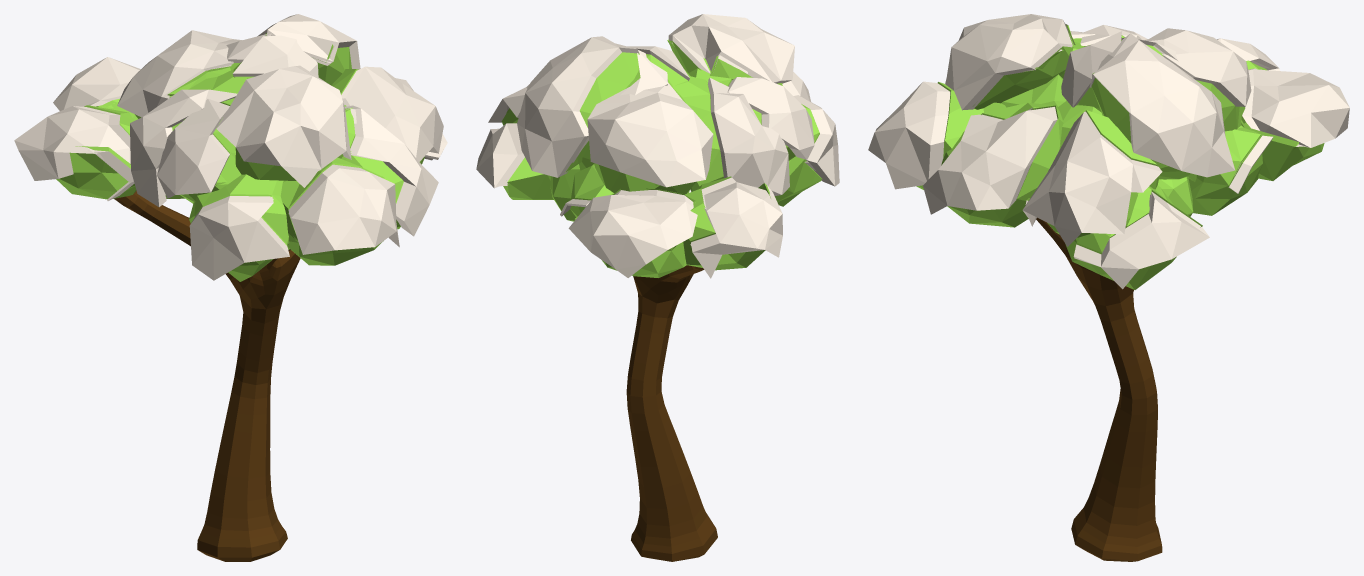
The model's file is Snow tree.fbx.
3 views of the same model, side by side, from view 1: azimuth 30°, elevation 25°; view 2: azimuth 150°, elevation 25°; view 3: azimuth 270°, elevation 25° (orthographic). The views are drawn at different scales.
Parts seen in each view (by area): view 1: Icosphere.017, Plane; view 2: Icosphere.017, Plane; view 3: Icosphere.017, Plane.
Boxes of the visible parts, x1,y1,x2,y2 form: Icosphere.017: (14,14,447,281); Plane: (114,191,300,561); Icosphere.017: (476,14,839,278); Plane: (626,265,717,561); Icosphere.017: (868,14,1349,289); Plane: (1036,217,1162,561).
Size of the model in its own units: 1153 by 1587 by 1295.
